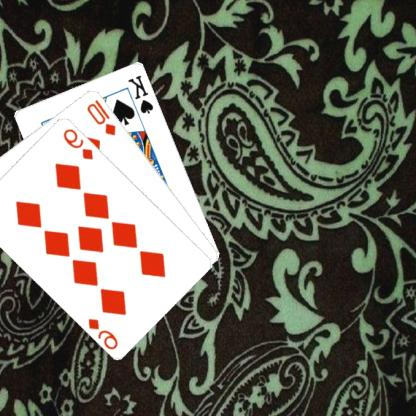10D: (86, 96, 119, 137)
9D: (87, 315, 122, 350), (62, 125, 96, 161)
KS: (127, 72, 157, 115)
